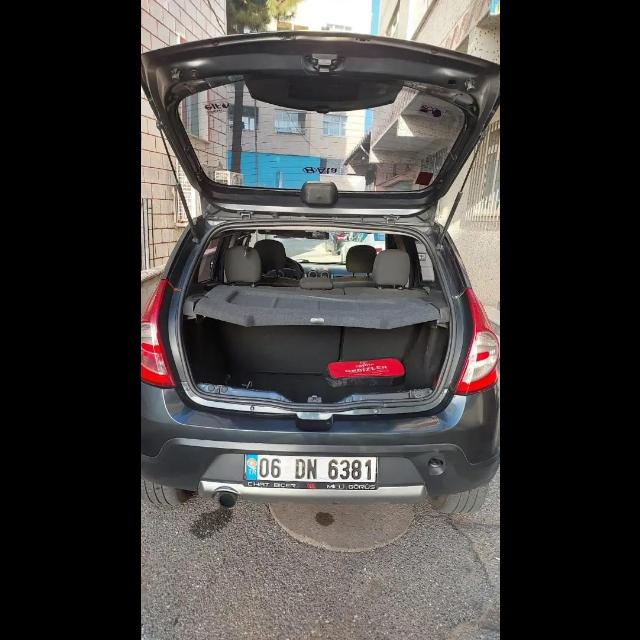Plaka: (245, 453, 378, 482)
